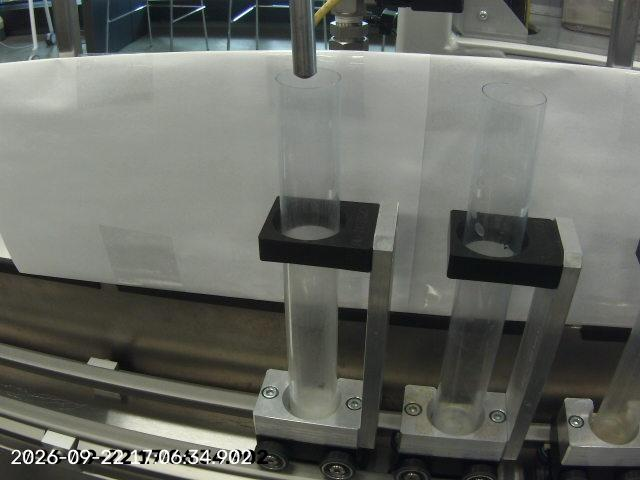vial: (423, 78, 552, 435), (270, 64, 348, 423)
